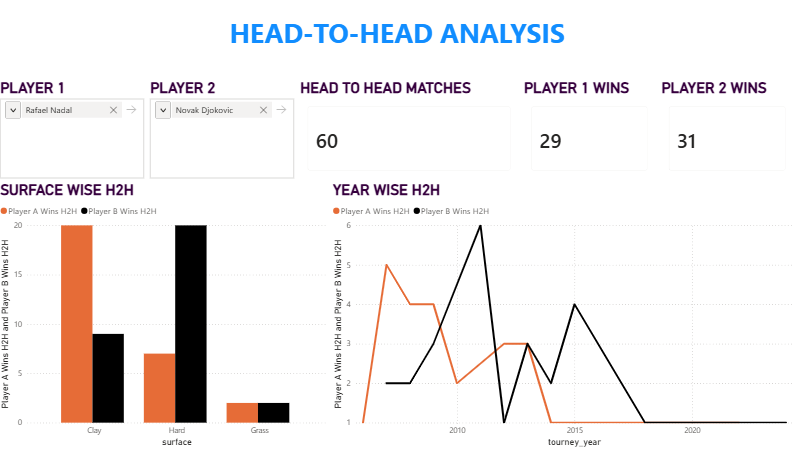

What the dashboard file says about the page in this screenshot:
{"tool":"powerbi","page":{"name":"H2H Analysis","canvas":[1280,720],"ordinal":3},"visuals":[{"type":"textbox","box":[0,0,1280,125],"z":0},{"type":"cardVisual","title":"PLAYER 1 WINS","fields":{"Data":["Players_B.Player A Wins H2H"]},"box":[838.6,125.7,220,164.3],"z":1000},{"type":"cardVisual","title":"PLAYER 2 WINS","fields":{"Data":["Players_B.Player B Wins H2H"]},"box":[1058.6,125.7,221,164.3],"z":2000},{"type":"cardVisual","title":"HEAD TO HEAD MATCHES","fields":{"Data":["Players_B.H2H Total Matches"]},"box":[480,125.7,359,164.3],"z":3000},{"type":"textSlicer","title":"PLAYER 2","fields":{"Values":["Players_B.player_b"]},"box":[240,125.7,240,164.3],"z":4000},{"type":"textSlicer","title":"PLAYER 1","fields":{"Values":["tennis_db dim_players.player_name"]},"box":[0,125.7,240,164.3],"z":5000},{"type":"clusteredColumnChart","title":"SURFACE WISE H2H ","fields":{"Category":["tennis_db fact_matches.surface"],"Y":["Players_B.Player A Wins H2H","Players_B.Player B Wins H2H"]},"box":[0,290,531.4,430],"z":6000},{"type":"lineChart","title":"YEAR WISE H2H","fields":{"Category":["tennis_db fact_matches.tourney_year"],"Y":["Players_B.Player A Wins H2H","Players_B.Player B Wins H2H"]},"box":[531.4,290,748.6,430],"z":7000}]}

Visuals, with their boxes in screenshot pixels (x1, y1, x2, y2), scaled from the page's 1280x720 canvas onto the 793x450 screenshot:
textbox: {"left": 0, "top": 0, "right": 792, "bottom": 78}
"PLAYER 1 WINS" cardVisual: {"left": 520, "top": 79, "right": 656, "bottom": 181}
"PLAYER 2 WINS" cardVisual: {"left": 656, "top": 79, "right": 792, "bottom": 181}
"HEAD TO HEAD MATCHES" cardVisual: {"left": 297, "top": 79, "right": 520, "bottom": 181}
"PLAYER 2" textSlicer: {"left": 149, "top": 79, "right": 297, "bottom": 181}
"PLAYER 1" textSlicer: {"left": 0, "top": 79, "right": 149, "bottom": 181}
"SURFACE WISE H2H " clusteredColumnChart: {"left": 0, "top": 181, "right": 329, "bottom": 449}
"YEAR WISE H2H" lineChart: {"left": 329, "top": 181, "right": 792, "bottom": 449}
